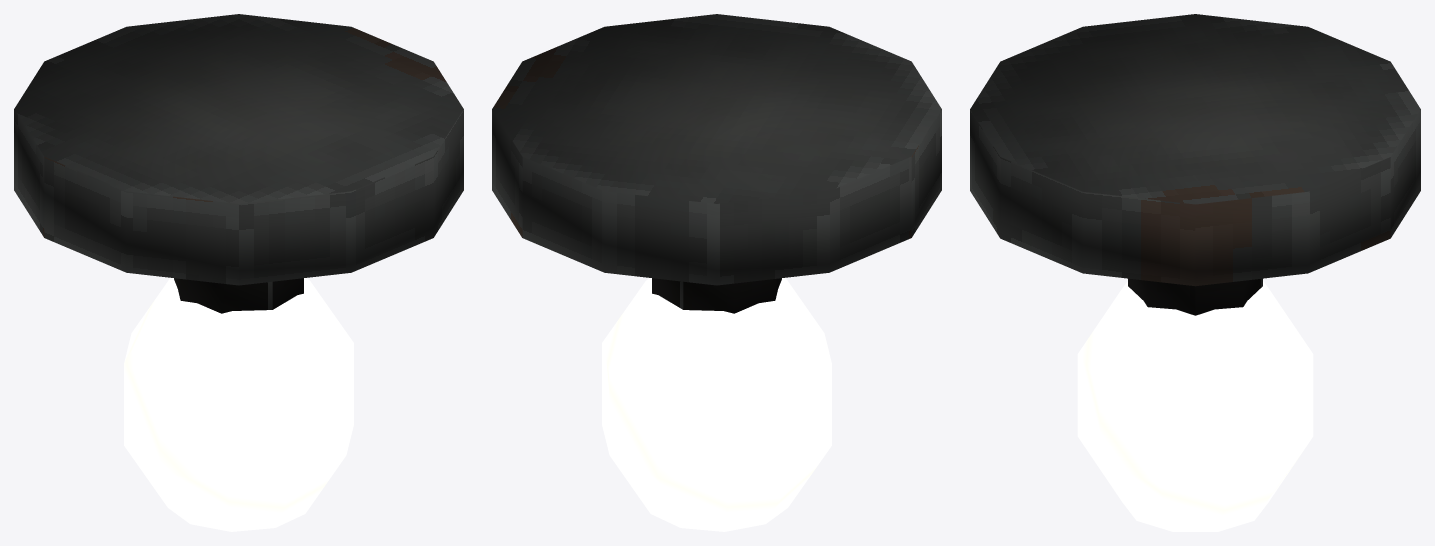
File: lamp_bulb.glb
3 renders of one model, left to right at view 1: azimuth 30°, elevation 25°; view 2: azimuth 150°, elevation 25°; view 3: azimuth 270°, elevation 25°, orthographic.
Visible parts, largest first — view 1: lamp_bulb, glow.003; view 2: lamp_bulb, glow.003; view 3: lamp_bulb, glow.003.
Part boxes in pixels (x1,y1,x2,y2): lamp_bulb: (14, 14, 463, 313); glow.003: (124, 277, 353, 531); lamp_bulb: (492, 14, 941, 313); glow.003: (602, 277, 831, 531); lamp_bulb: (970, 14, 1420, 315); glow.003: (1077, 281, 1313, 531).
Size of the model in its own units: 0.2 by 0.205 by 0.2.
2 materials, 1 textured.
